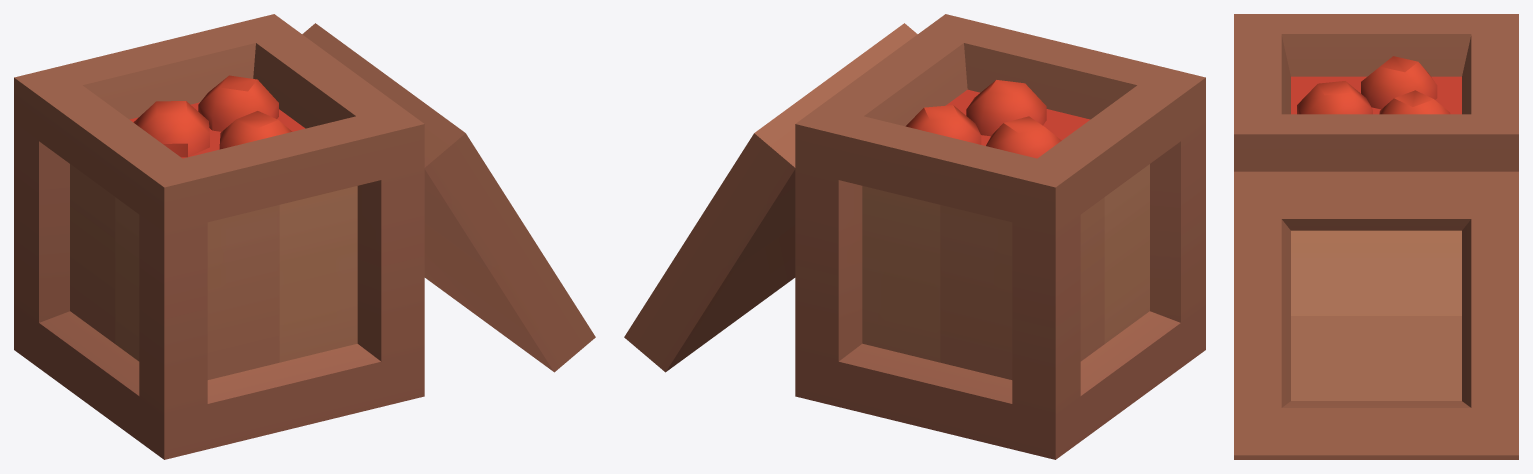
Rendered from crate_open.glb.
3 renders of one model, left to right at view 1: azimuth 30°, elevation 25°; view 2: azimuth 150°, elevation 25°; view 3: azimuth 270°, elevation 25°, orthographic. The views are drawn at different scales.
Parts seen in each view (by area): view 1: crate_open; view 2: crate_open; view 3: crate_open.
Boxes of the visible parts, bbox=[...] form: crate_open: bbox=[14, 14, 595, 459]; crate_open: bbox=[624, 14, 1205, 459]; crate_open: bbox=[1234, 14, 1518, 459].
Bounding box in the file's own units: 0.3316 × 0.2056 × 0.2.
Materials: 1 (1 with a texture image).
